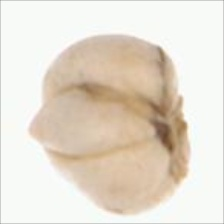L5: (24, 82, 160, 167), (154, 43, 196, 193), (23, 98, 56, 154)
L6: (25, 32, 197, 214)
